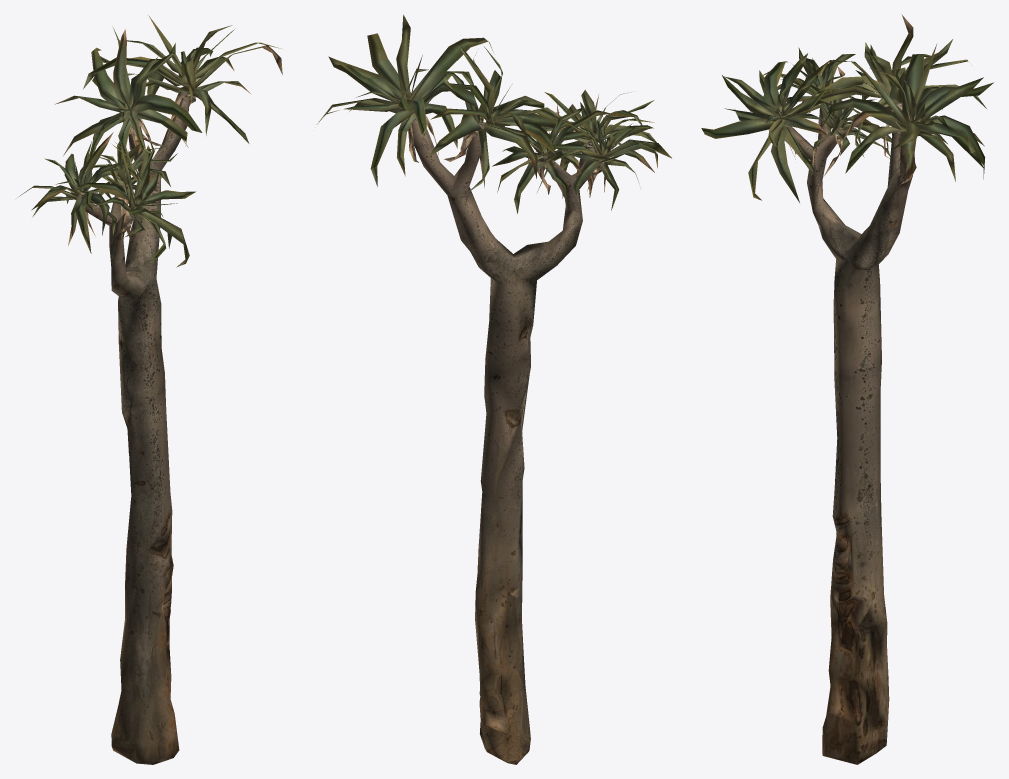
Rendered from quiver_tree_01.glb.
The picture shows the model from 3 angles, left to right: view 1: azimuth 30°, elevation 25°; view 2: azimuth 150°, elevation 25°; view 3: azimuth 270°, elevation 25°; orthographic projection. The views are drawn at different scales.
Visible parts, largest first — view 1: quiver_tree_01; view 2: quiver_tree_01; view 3: quiver_tree_01.
Boxes of the visible parts, x1,y1,x2,y2 form: quiver_tree_01: (19, 15, 282, 764); quiver_tree_01: (316, 14, 671, 764); quiver_tree_01: (701, 14, 993, 764).
Size of the model in its own units: 1.18 by 2.72 by 0.9676.
Materials: 2 (2 with a texture image).
